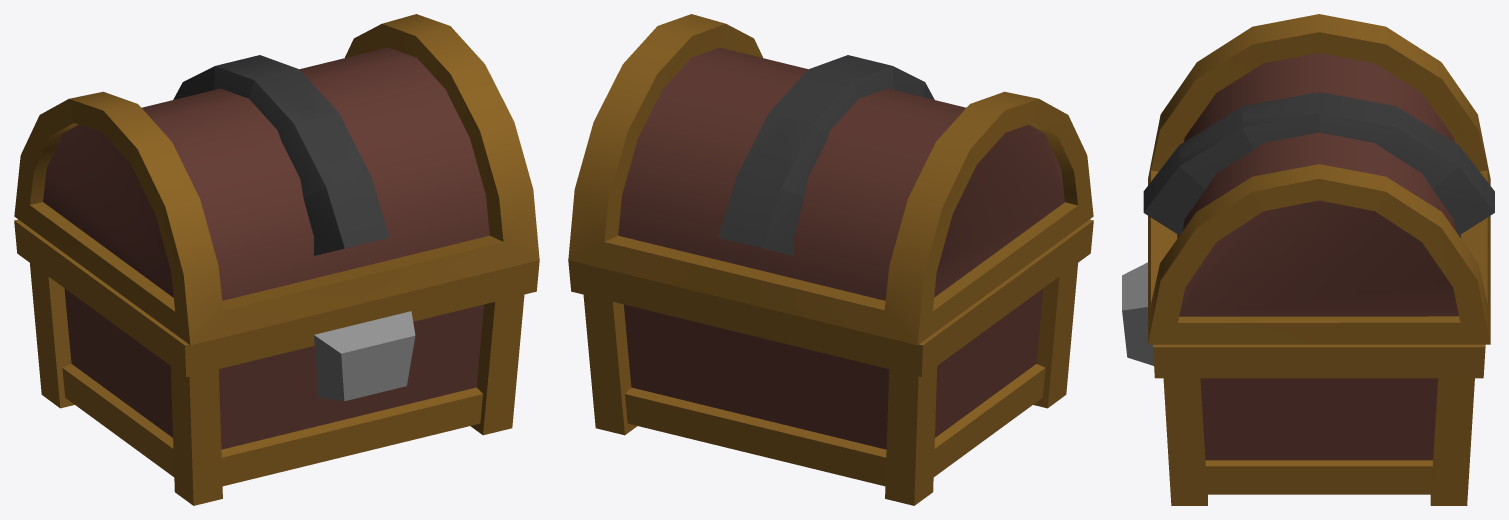
The model's file is chest.fbx.
The picture shows the model from 3 angles, left to right: view 1: azimuth 30°, elevation 25°; view 2: azimuth 150°, elevation 25°; view 3: azimuth 270°, elevation 25°; orthographic projection. The views are drawn at different scales.
Parts seen in each view (by area): view 1: ChestMesh.002, ChestMesh; view 2: ChestMesh.002, ChestMesh; view 3: ChestMesh.002, ChestMesh.
Part boxes in pixels (box(x1,y1,x2,y2)): ChestMesh.002: box(14, 14, 539, 345); ChestMesh: box(14, 219, 539, 505); ChestMesh.002: box(568, 14, 1093, 345); ChestMesh: box(568, 219, 1093, 505); ChestMesh.002: box(1143, 14, 1494, 344); ChestMesh: box(1122, 262, 1485, 505).
Size of the model in its own units: 98.87 by 91.36 by 92.47.
